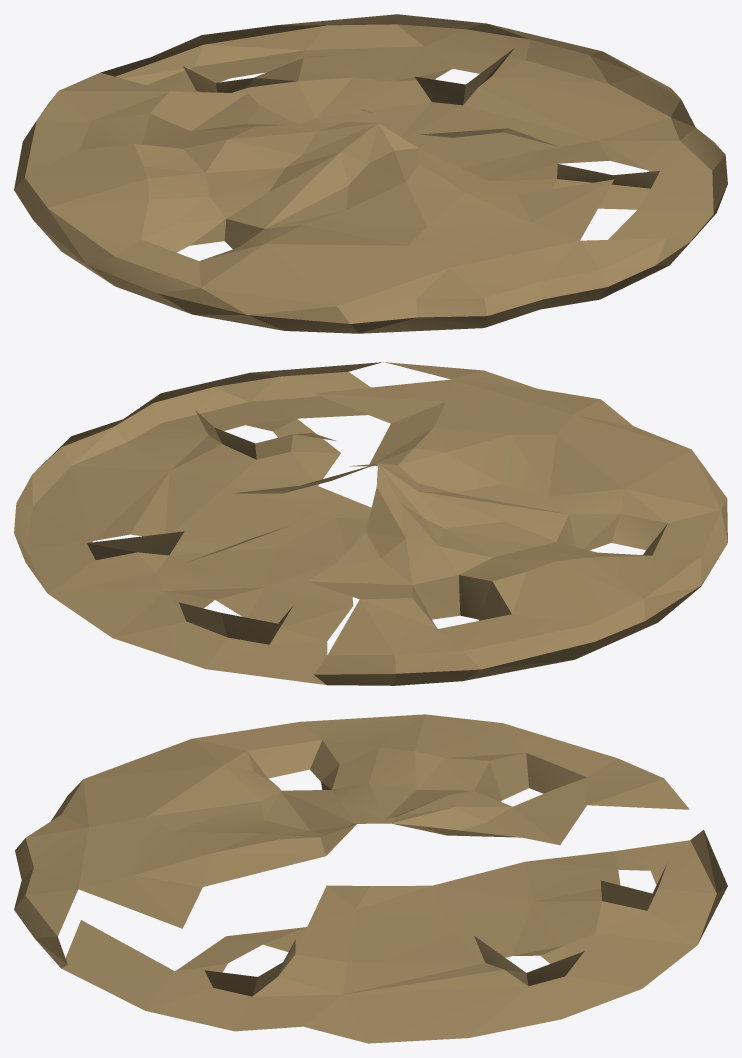
The model's file is sand-dollar.glb.
The picture shows the model from 3 angles, top to bottom: view 1: azimuth 30°, elevation 25°; view 2: azimuth 150°, elevation 25°; view 3: azimuth 270°, elevation 25°; orthographic projection.
Visible parts, largest first — view 1: SandDollar; view 2: SandDollar; view 3: SandDollar.
Part boxes in pixels (x1,y1,x2,y2): SandDollar: (14, 14, 727, 333); SandDollar: (14, 362, 727, 685); SandDollar: (14, 714, 727, 1043).
Bounding box in the file's own units: 0.5157 × 0.0586 × 0.5113.
